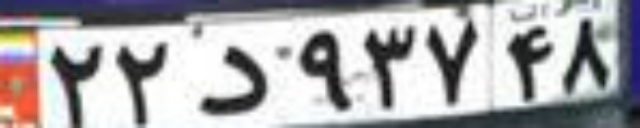2: (49, 44, 104, 127), (116, 39, 164, 124)
3: (360, 23, 418, 108)
4: (503, 25, 553, 102)
7: (425, 17, 488, 105)
8: (561, 17, 612, 92)
9: (298, 29, 350, 108)
dal: (196, 44, 271, 115)
